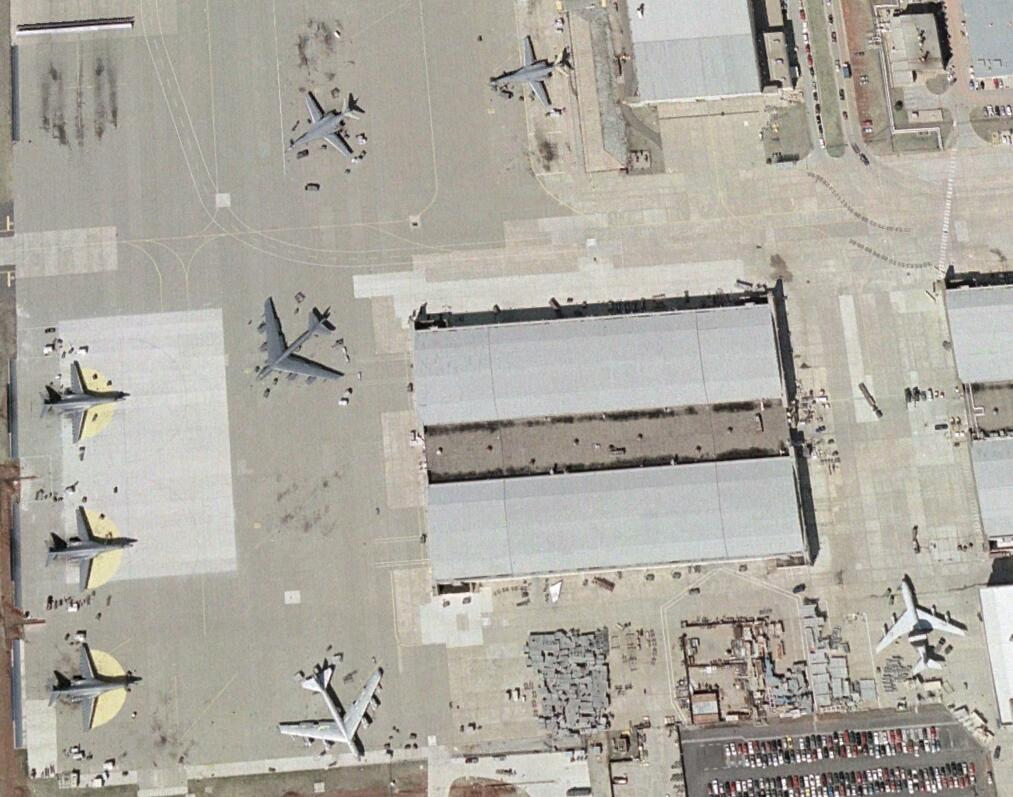A10: (46, 645, 139, 730), (44, 507, 132, 594), (39, 361, 126, 443), (490, 37, 573, 110), (286, 90, 367, 161)
A7: (875, 578, 968, 676)
A8: (279, 666, 383, 764), (252, 296, 347, 388)
